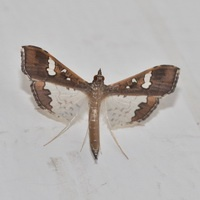insect: (21, 45, 179, 159)
